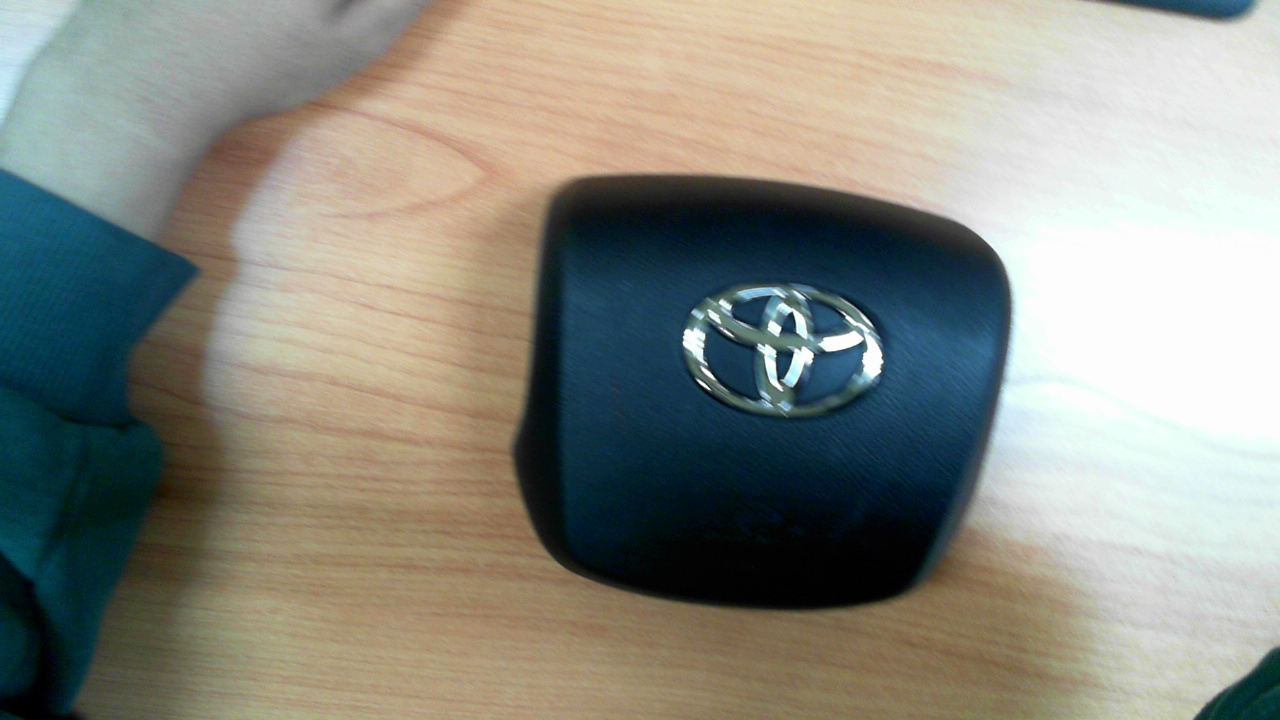Airbag: (511, 173, 1015, 613)
Toyota: (682, 283, 884, 419)
